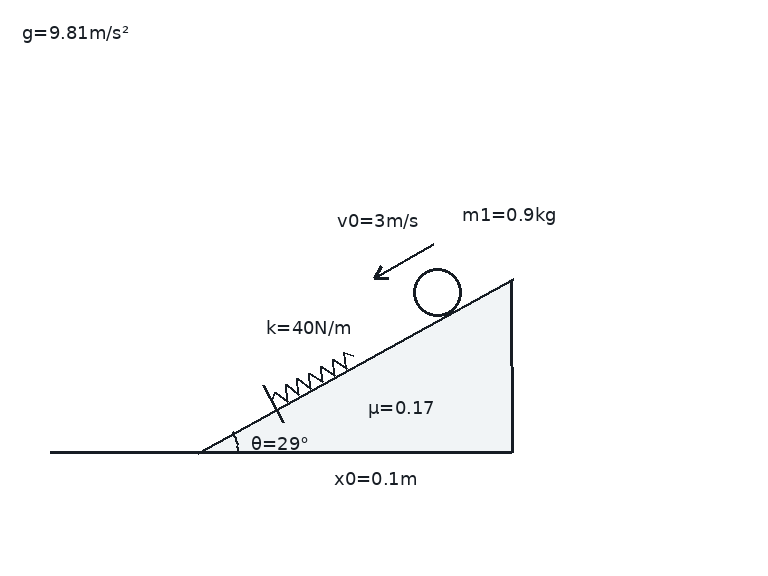ball: (411, 266, 463, 318)
ramp: (196, 276, 513, 454)
spring: (270, 351, 355, 403)
